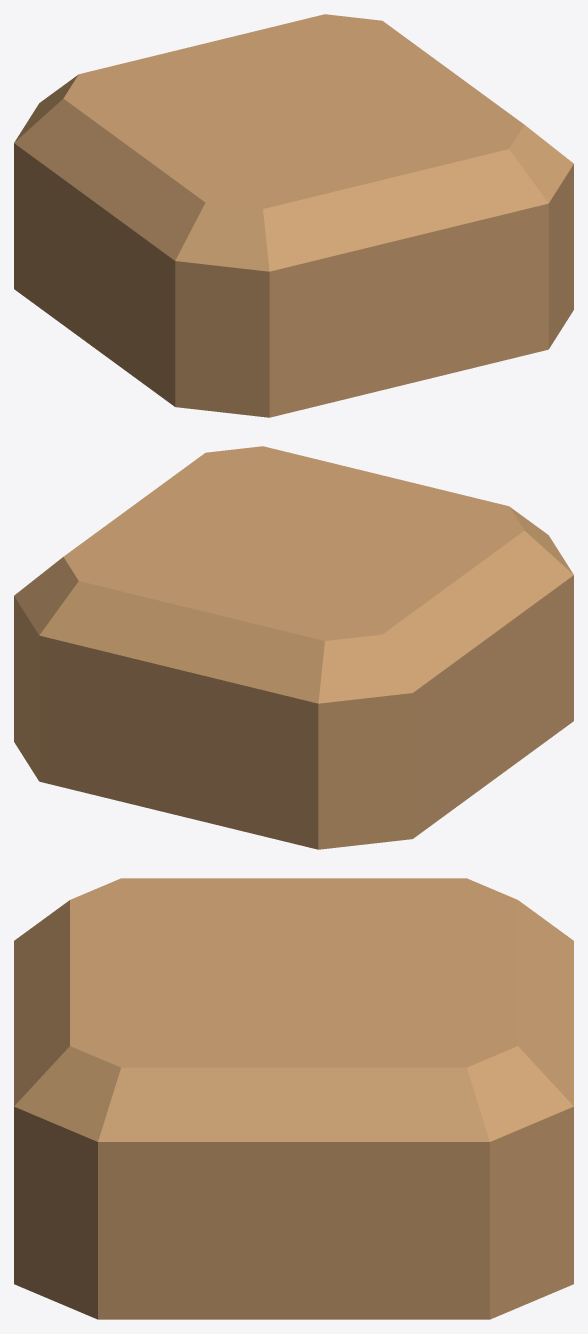
File: Puzzle_Control_Pressure_Plate.fbx
3 renders of one model, top to bottom at view 1: azimuth 30°, elevation 25°; view 2: azimuth 150°, elevation 25°; view 3: azimuth 270°, elevation 25°, orthographic. The views are drawn at different scales.
Visible parts, largest first — view 1: object1; view 2: object1; view 3: object1.
Part boxes in pixels (bbox=[...]): object1: bbox=[14, 14, 573, 417]; object1: bbox=[14, 446, 573, 849]; object1: bbox=[14, 878, 573, 1319].
Size of the model in its own units: 0.5 by 0.225 by 0.5.
